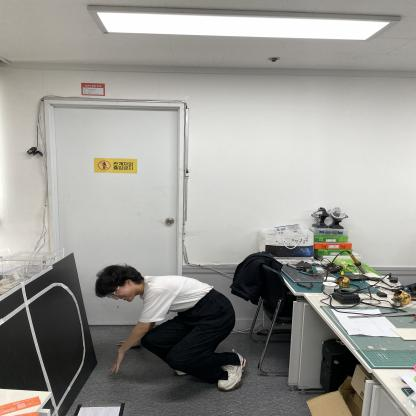fall: (92, 260, 251, 392)
